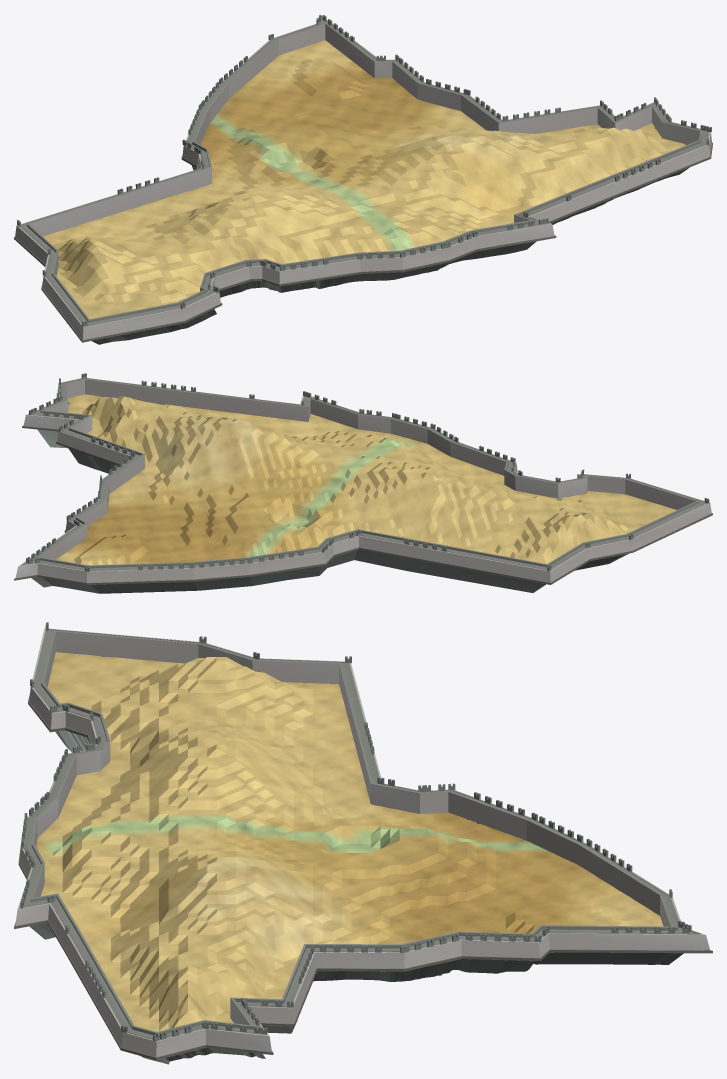
3 views of the same model, one above another, from view 1: azimuth 30°, elevation 25°; view 2: azimuth 150°, elevation 25°; view 3: azimuth 270°, elevation 25° (orthographic). The views are drawn at different scales.
Parts seen in each view (by area): view 1: ground_4358a3ca; view 2: ground_4358a3ca; view 3: ground_4358a3ca.
Boxes of the visible parts, x1,y1,x2,y2 form: ground_4358a3ca: (14,14,712,344); ground_4358a3ca: (14,373,712,593); ground_4358a3ca: (14,622,712,1064).
Bounding box in the file's own units: 153 × 12.64 × 109.
3 materials, 1 textured.
